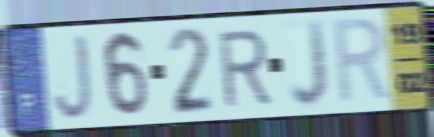2: (166, 25, 216, 118)
6: (100, 28, 150, 121)
J: (287, 16, 331, 111), (50, 32, 95, 123)
R: (331, 13, 394, 109), (215, 26, 274, 111)
